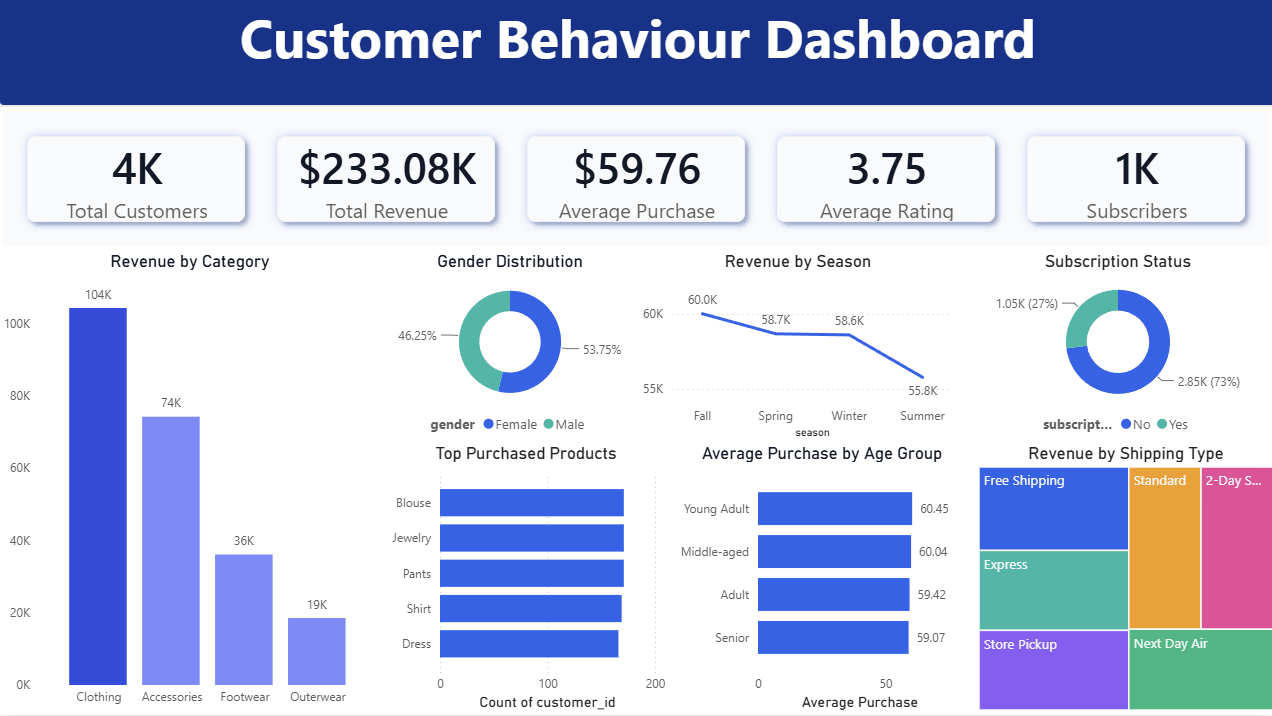

What the dashboard file says about the page in this screenshot:
{"tool":"powerbi","page":{"name":"Page 1","canvas":[1280,720],"ordinal":0},"visuals":[{"type":"shape","box":[0,0,1280,112],"z":0},{"type":"textbox","box":[0,0,1280,112],"z":1000},{"type":"clusteredColumnChart","title":"Revenue by Category","fields":{"Category":["customer_behavior customer.category"],"Y":["Sum(customer_behavior customer.purchase_amount)"]},"box":[0,256,384,464],"z":2000},{"type":"donutChart","title":"Gender Distribution","fields":{"Category":["customer_behavior customer.gender"],"Y":["Sum(customer_behavior customer.customer_id)"]},"box":[384,256,256,192],"z":3000},{"type":"lineChart","title":"Revenue by Season","fields":{"Y":["Sum(customer_behavior customer.purchase_amount)"],"Category":["customer_behavior customer.season"]},"box":[640,256,320,192],"z":4000},{"type":"clusteredBarChart","title":"Top Purchased Products","fields":{"Category":["customer_behavior customer.item_purchased"],"Y":["CountNonNull(customer_behavior customer.customer_id)"]},"box":[384,448,288,272],"z":5000},{"type":"treemap","title":"Revenue by Shipping Type","fields":{"Group":["customer_behavior customer.shipping_type"],"Values":["Sum(customer_behavior customer.purchase_amount)"]},"box":[976,448,304,272],"z":6000},{"type":"clusteredBarChart","title":"Average Purchase by Age Group","fields":{"Category":["customer_behavior customer.age_group"],"Y":["customer_behavior customer.Average Purchase"]},"box":[672,448,304,272],"z":7000},{"type":"donutChart","title":"Subscription Status","fields":{"Category":["customer_behavior customer.subscription_status"],"Y":["Count(customer_behavior customer.customer_id)"]},"box":[960,256,320,192],"z":8000},{"type":"cardVisual","fields":{"Data":["customer_behavior customer.Total Customers","customer_behavior customer.Total Revenue","customer_behavior customer.Average Purchase","customer_behavior customer.Average Rating","customer_behavior customer.Subscribers"]},"box":[0,112,1280,144],"z":9000}]}

Visuals, with their boxes in screenshot pixels (x1, y1, x2, y2), scaled from the page's 1280x720 canvas onto the 1272x716 screenshot:
shape: [0, 0, 1271, 111]
textbox: [0, 0, 1271, 111]
"Revenue by Category" clusteredColumnChart: [0, 255, 382, 715]
"Gender Distribution" donutChart: [382, 255, 636, 446]
"Revenue by Season" lineChart: [636, 255, 954, 446]
"Top Purchased Products" clusteredBarChart: [382, 446, 668, 715]
"Revenue by Shipping Type" treemap: [970, 446, 1271, 715]
"Average Purchase by Age Group" clusteredBarChart: [668, 446, 970, 715]
"Subscription Status" donutChart: [954, 255, 1271, 446]
cardVisual - customer_behavior customer.Total Customers x customer_behavior customer.Total Revenue: [0, 111, 1271, 255]
